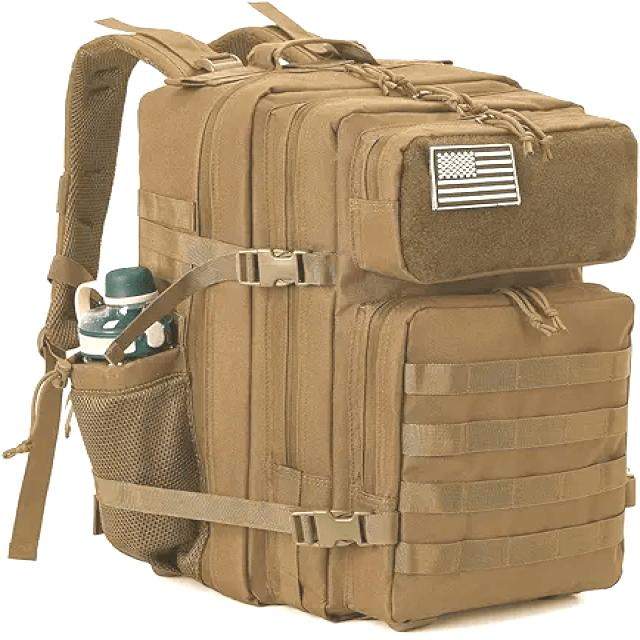backpack: (1, 1, 640, 633)
